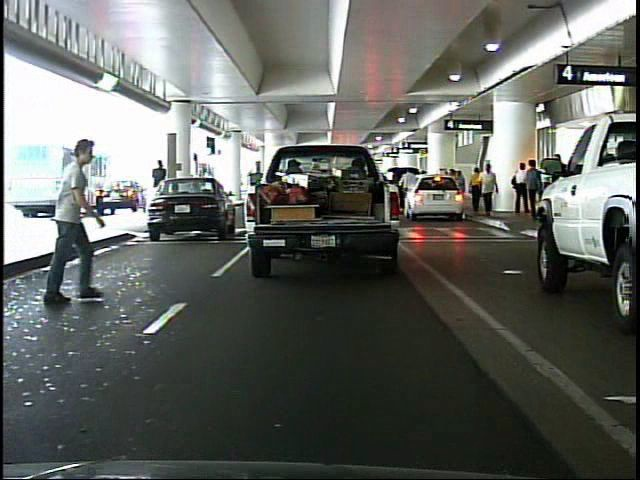person: (34, 132, 123, 321), (471, 156, 496, 221), (147, 157, 171, 218), (512, 156, 534, 217), (467, 160, 486, 220)
